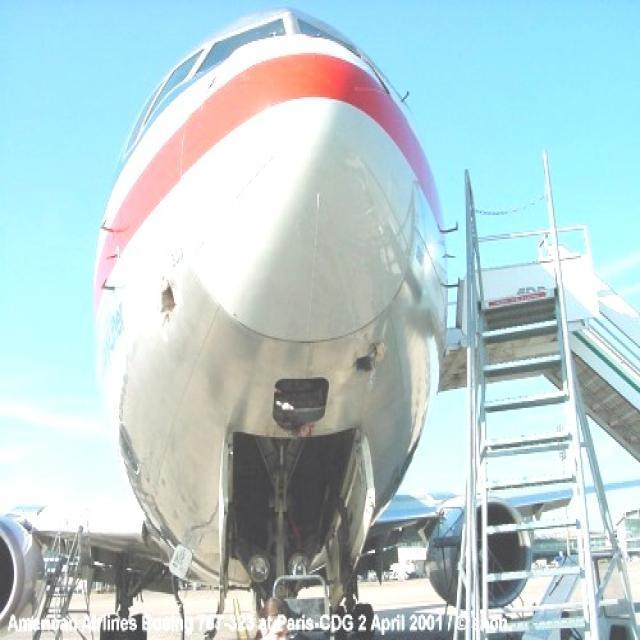dent: (350, 338, 391, 378), (153, 280, 180, 313)
